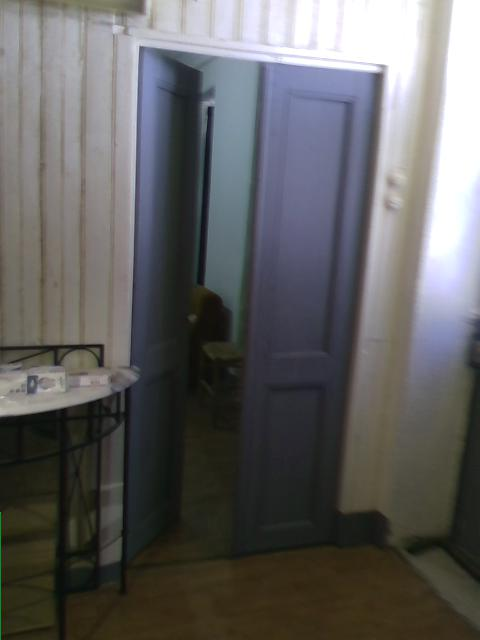semi_door: (126, 41, 396, 575)
